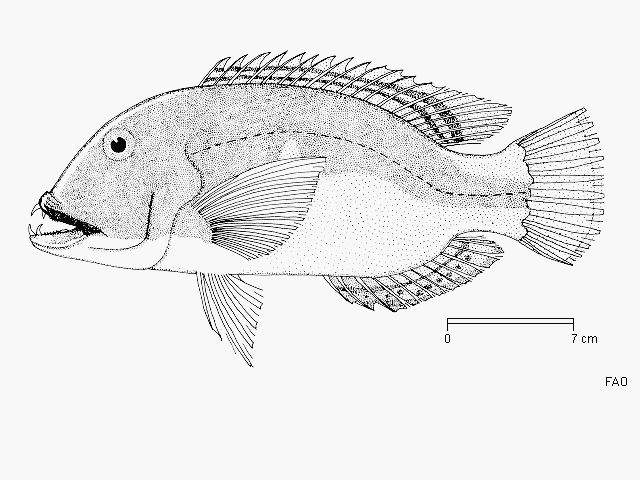fish: (27, 52, 605, 368)
